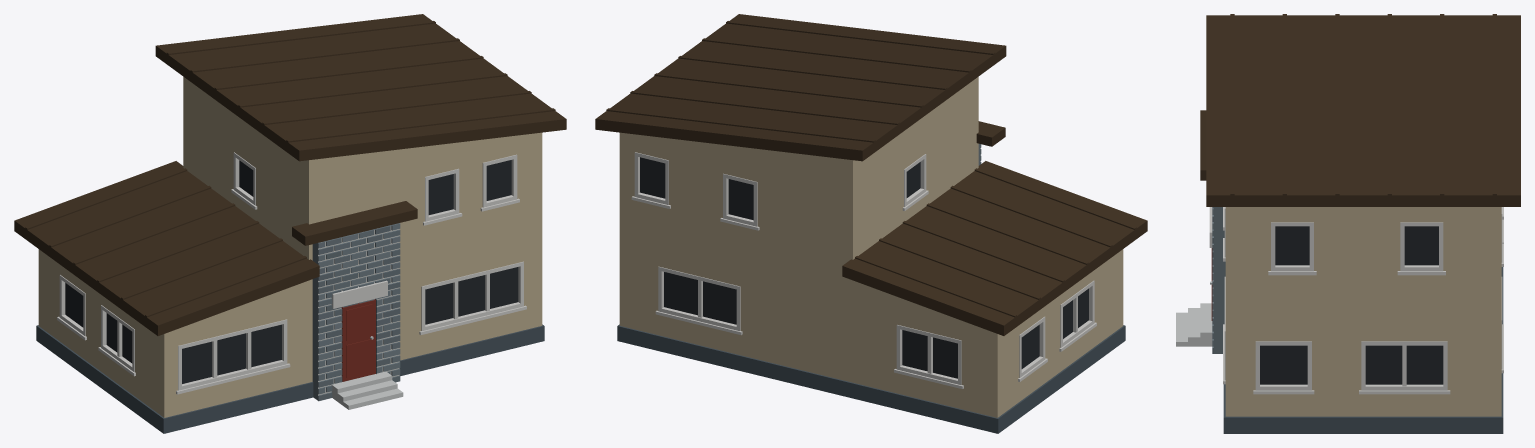
File: split-level-house-40fe1a.glb
3 views of the same model, side by side, from view 1: azimuth 30°, elevation 25°; view 2: azimuth 150°, elevation 25°; view 3: azimuth 270°, elevation 25° (orthographic). The views are drawn at different scales.
Visible parts, largest first — view 1: split-level-house-shell, door-leaf; view 2: split-level-house-shell; view 3: split-level-house-shell.
Part boxes in pixels (box(x1,y1,x2,y2)): split-level-house-shell: box(14, 14, 566, 433); door-leaf: box(341, 299, 375, 381); split-level-house-shell: box(595, 14, 1147, 433); split-level-house-shell: box(1176, 14, 1520, 433).
Bounding box in the file's own units: 12 × 7.28 × 8.
